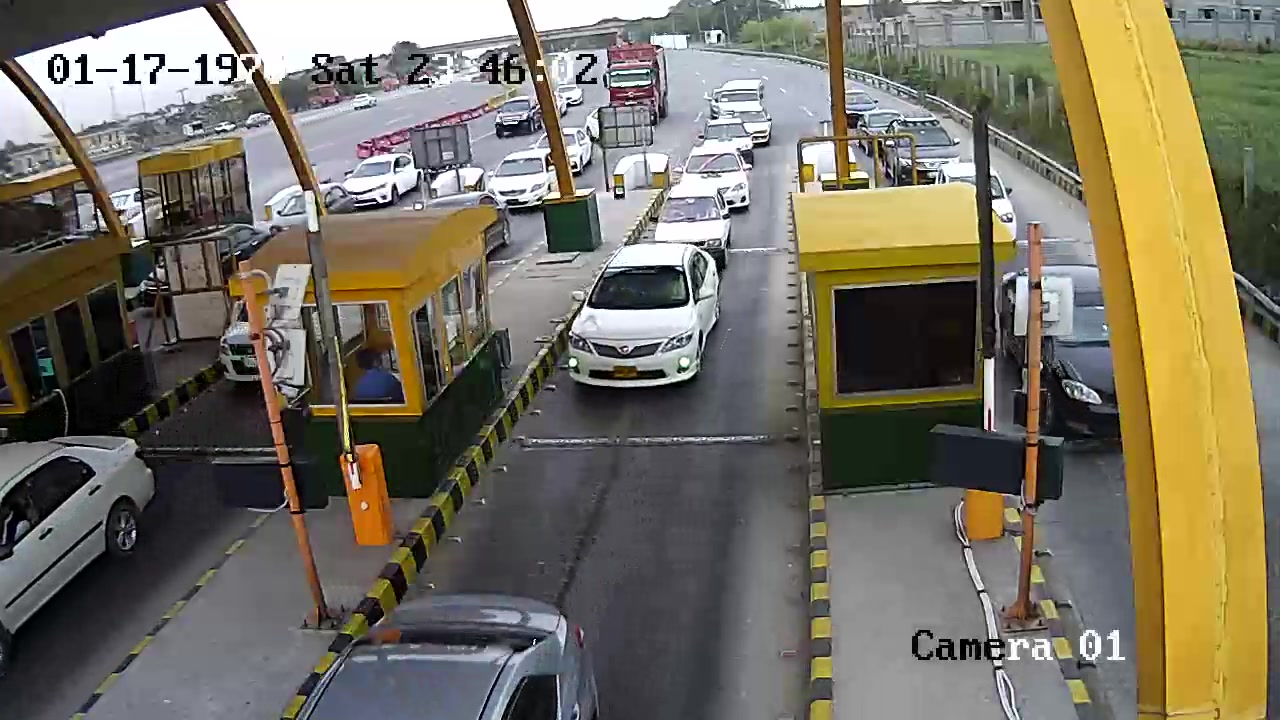F1: (566, 242, 730, 405)
